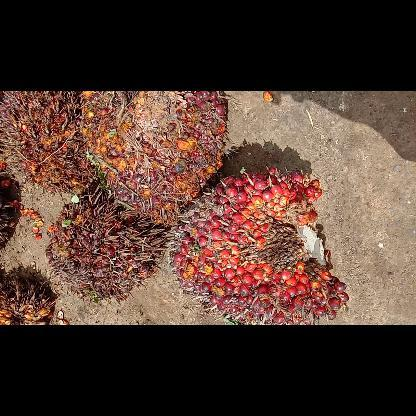TBS masak: (168, 168, 348, 324), (82, 91, 226, 223), (46, 184, 166, 302), (0, 91, 96, 195)
